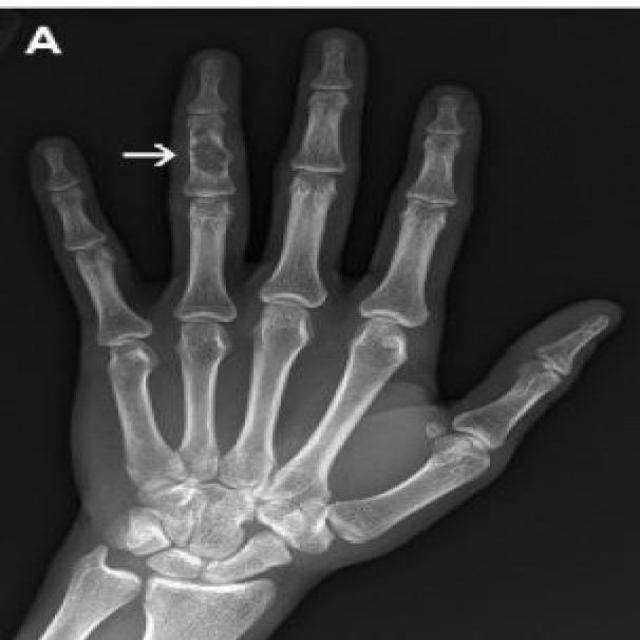pathological: (145, 119, 255, 198)
